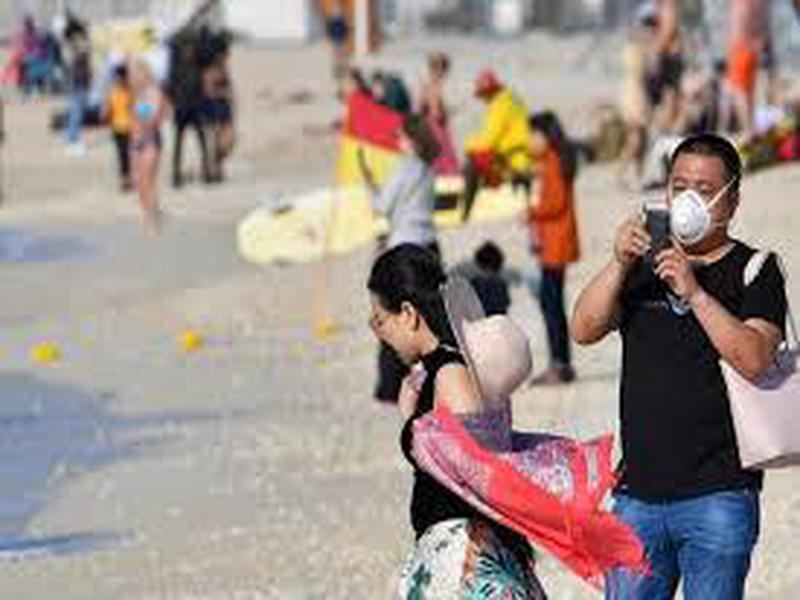with_mask: (666, 136, 742, 247)
without_mask: (368, 244, 445, 365)
